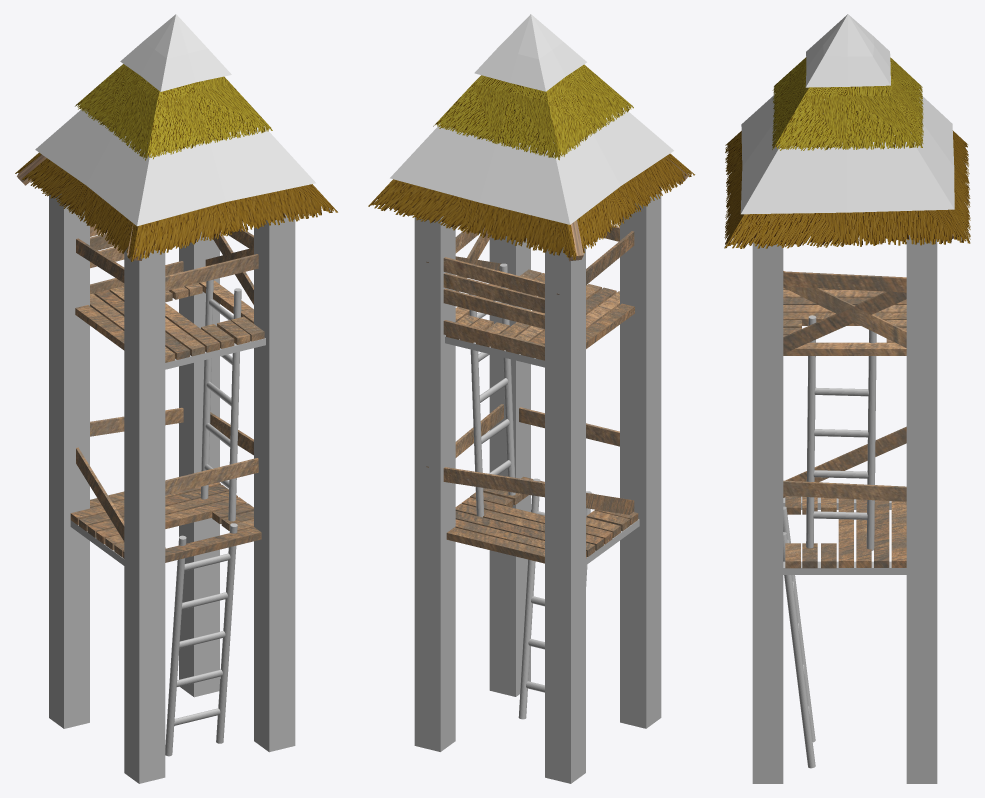
File: tower.fbx
The picture shows the model from 3 angles, left to right: view 1: azimuth 30°, elevation 25°; view 2: azimuth 150°, elevation 25°; view 3: azimuth 270°, elevation 25°; orthographic projection. The views are drawn at different scales.
Parts seen in each view (by area): view 1: Cube.011, Plane.009, Plane.010, Plane.004, Plane.011; view 2: Cube.011, Plane.009, Plane.010, Plane.004, Plane.011; view 3: Cube.011, Plane.009, Plane.004, Plane.010, Plane.011.
Boxes of the visible parts, x1,y1,x2,y2 form: Cube.011: [17, 154, 321, 783]; Plane.009: [35, 81, 315, 226]; Plane.010: [75, 64, 272, 160]; Plane.004: [15, 152, 337, 261]; Plane.011: [120, 14, 231, 91]; Cube.011: [393, 157, 688, 783]; Plane.009: [390, 73, 673, 224]; Plane.010: [433, 64, 633, 160]; Plane.004: [368, 153, 694, 260]; Plane.011: [474, 14, 586, 91]; Cube.011: [727, 145, 964, 783]; Plane.009: [740, 87, 954, 214]; Plane.004: [724, 130, 970, 248]; Plane.010: [772, 57, 923, 150]; Plane.011: [805, 14, 890, 87].
Size of the model in its own units: 322 by 1061 by 321.
